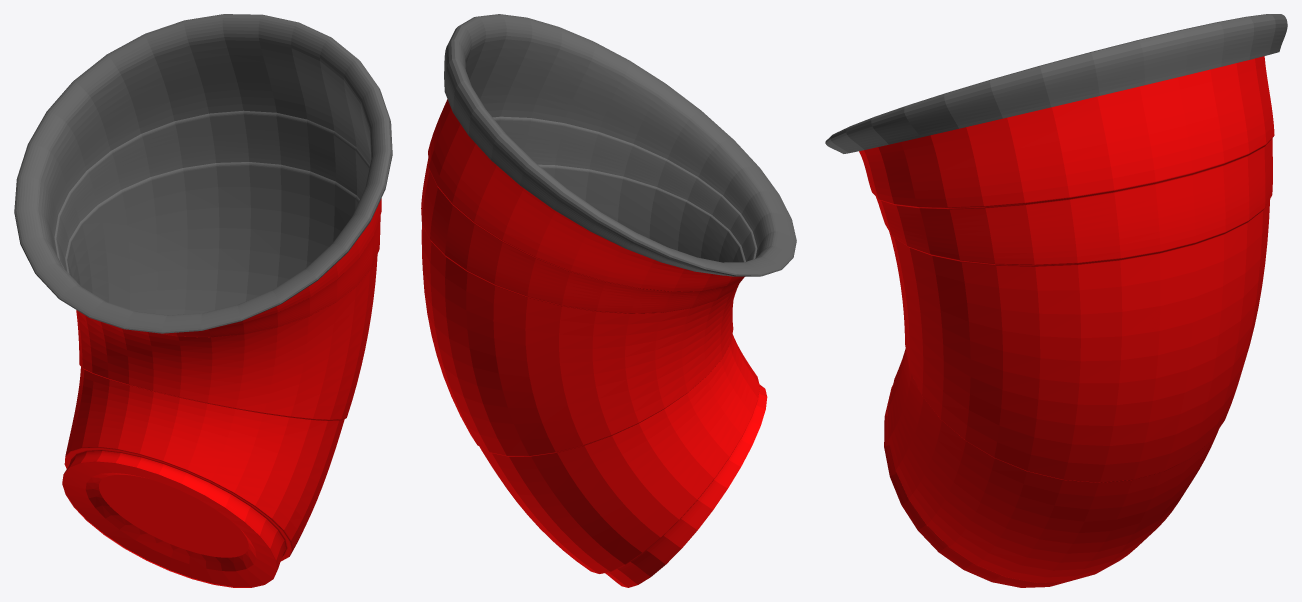
The model's file is bend_high_0.obj.
The picture shows the model from 3 angles, left to right: view 1: azimuth 30°, elevation 25°; view 2: azimuth 150°, elevation 25°; view 3: azimuth 270°, elevation 25°; orthographic projection. The views are drawn at different scales.
Visible parts, largest first — view 1: model; view 2: model; view 3: model.
Part boxes in pixels (x1=…): model: x1=14, y1=14, x2=392, y2=587; model: x1=421, y1=14, x2=796, y2=587; model: x1=825, y1=14, x2=1287, y2=587.
Size of the model in its own units: 0.0896 by 0.1374 by 0.0932.
1 material, 1 textured.
